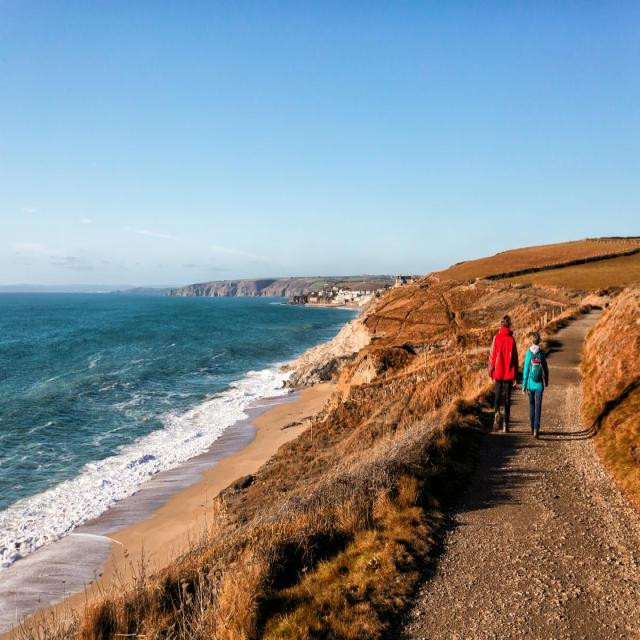Walking: (486, 312, 520, 432), (522, 328, 554, 434)
